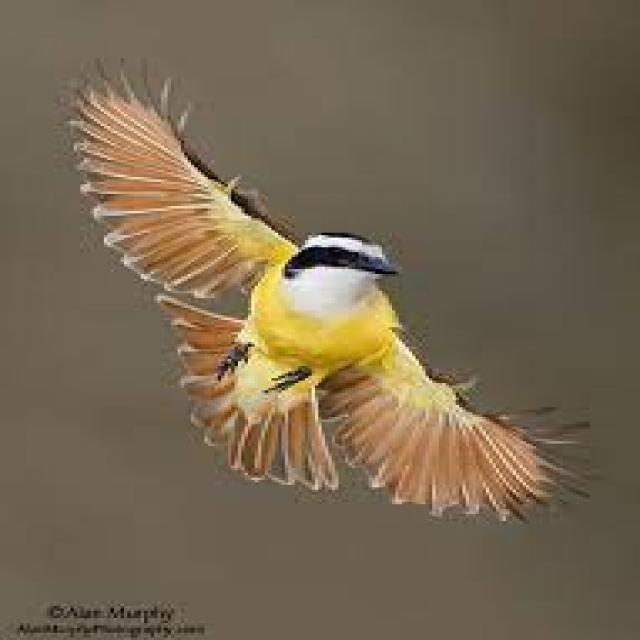birds: (70, 68, 560, 521)
